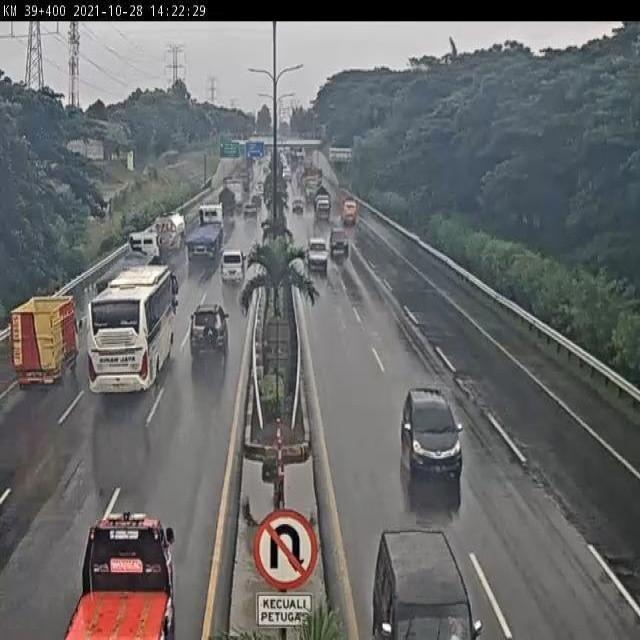bus-l-: (86, 264, 179, 399)
car: (402, 386, 461, 474), (190, 307, 230, 360), (218, 245, 248, 287), (305, 235, 330, 272), (328, 224, 350, 253)
truck-m-: (150, 208, 186, 253)
truck-s-: (11, 291, 81, 393)
truck-xl-: (96, 232, 161, 299), (187, 204, 228, 260)
